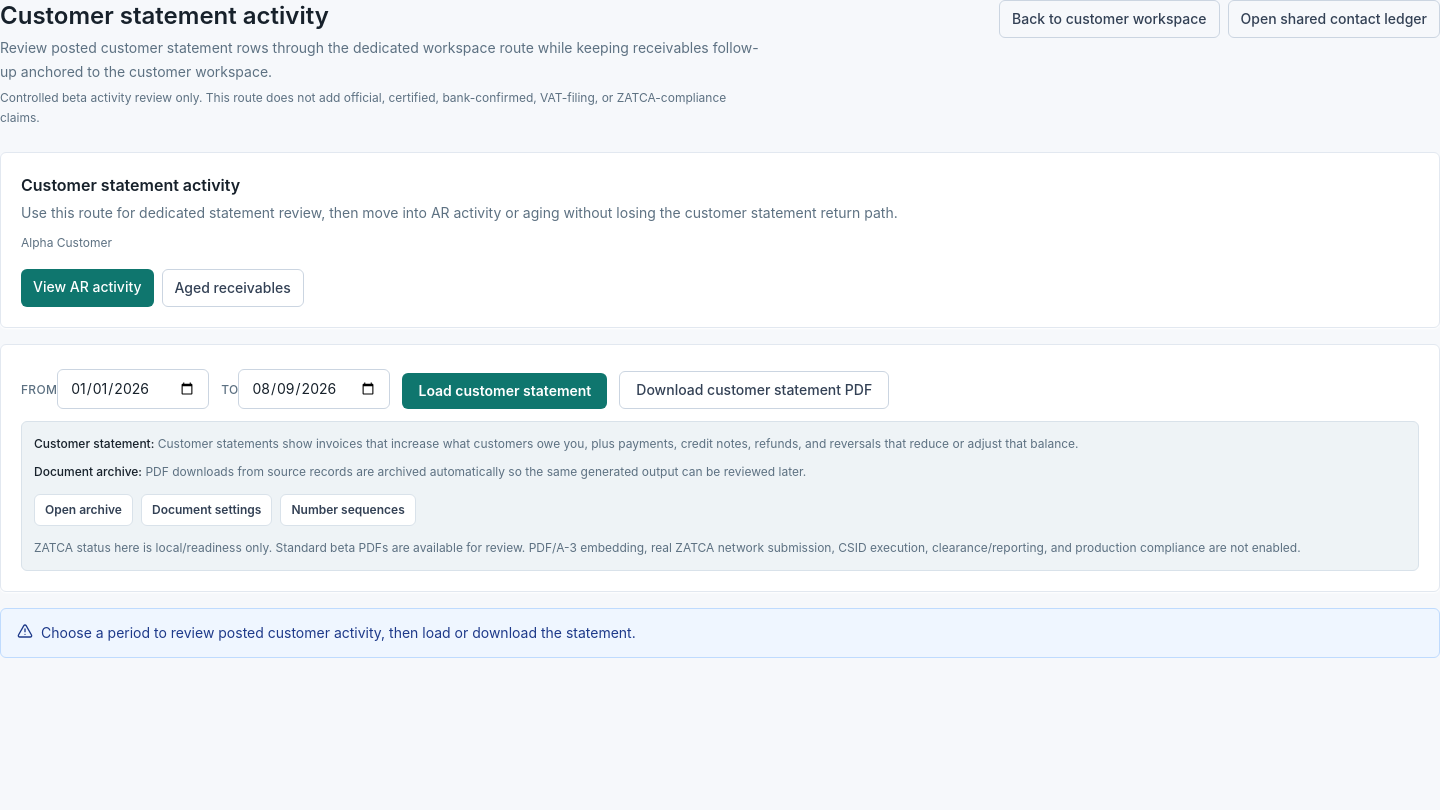
Scenario: party statement routes › labels statement balances in base currency and shows foreign document evidence separately
Click the button "Load customer statement": x=505, y=391 [402, 373, 607, 409]
(page scrolled)
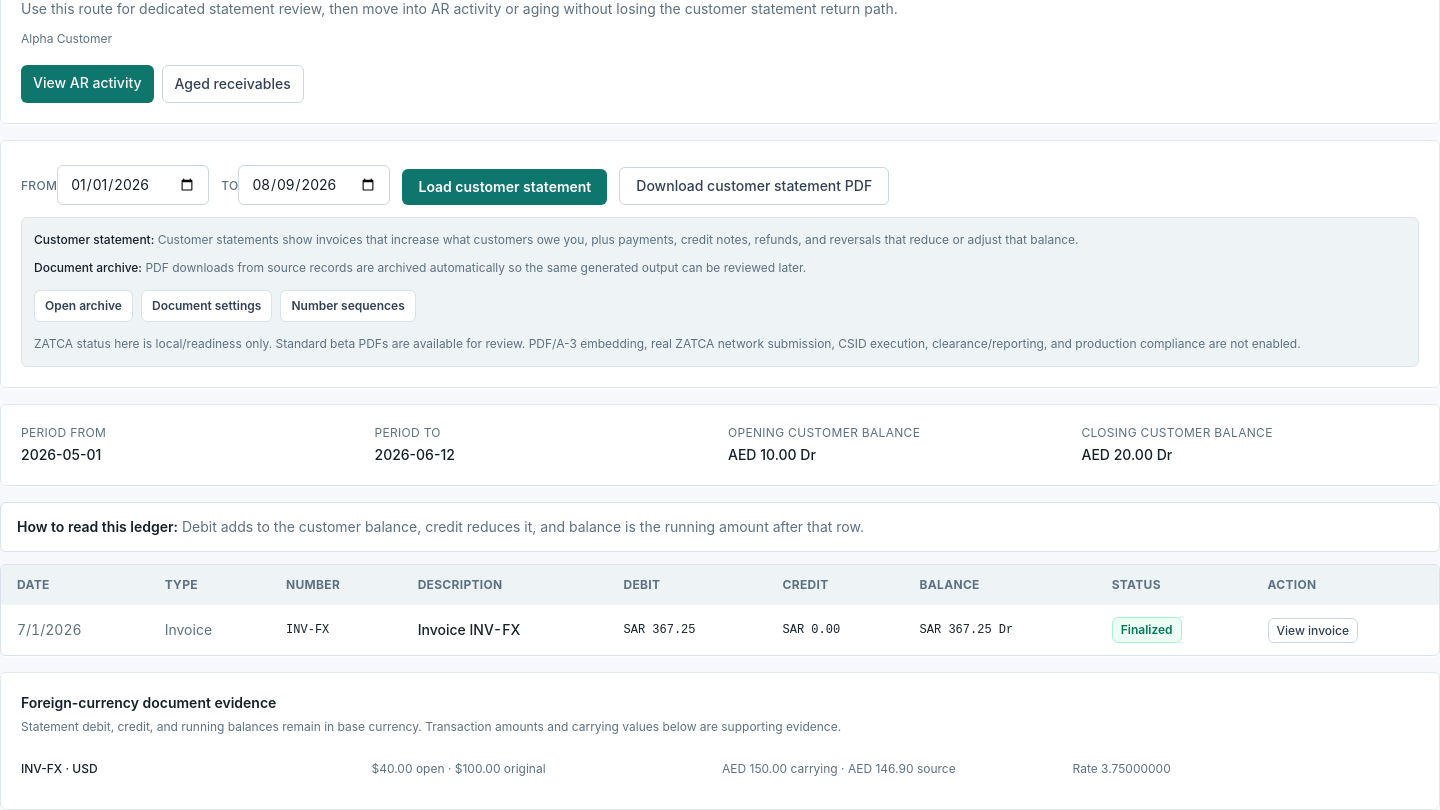
Expected: the text "AED 10.00 Dr" is shown, [728, 446, 816, 463]
Expected: the text "INV-FX · USD" is shown, [21, 761, 98, 776]
Expected: the text "$40.00 open · $100.00 original" is shown, [372, 761, 546, 776]
